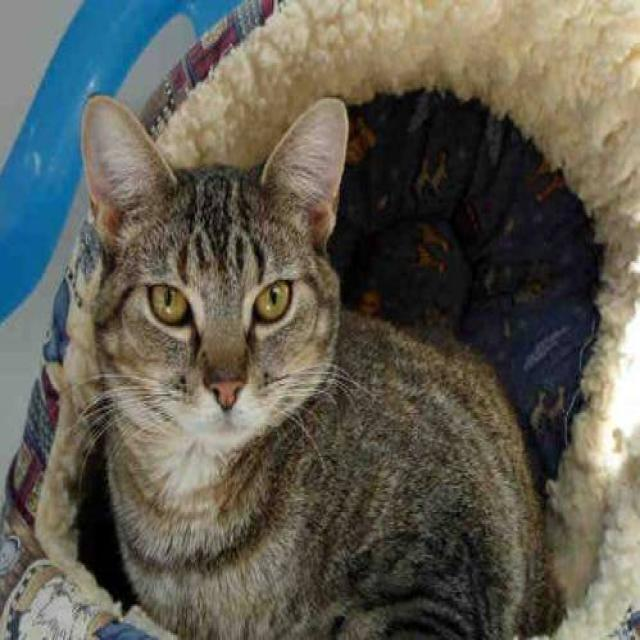cat: (36, 89, 568, 638)
